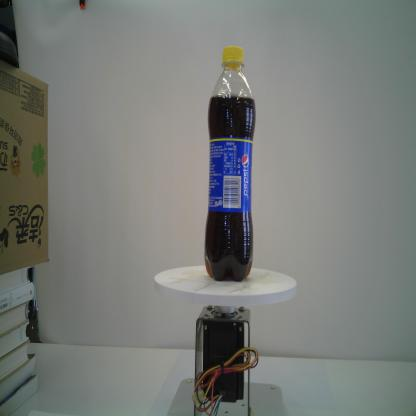Drink: (202, 41, 257, 287)
